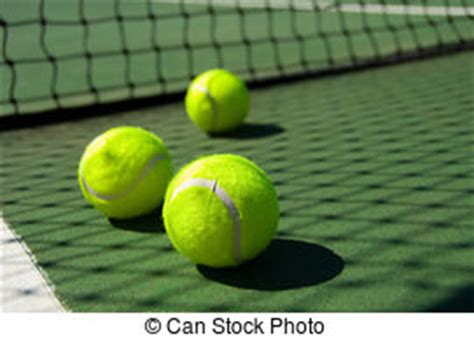tennis_ball: (161, 152, 280, 268), (77, 125, 172, 218), (185, 68, 251, 133)
